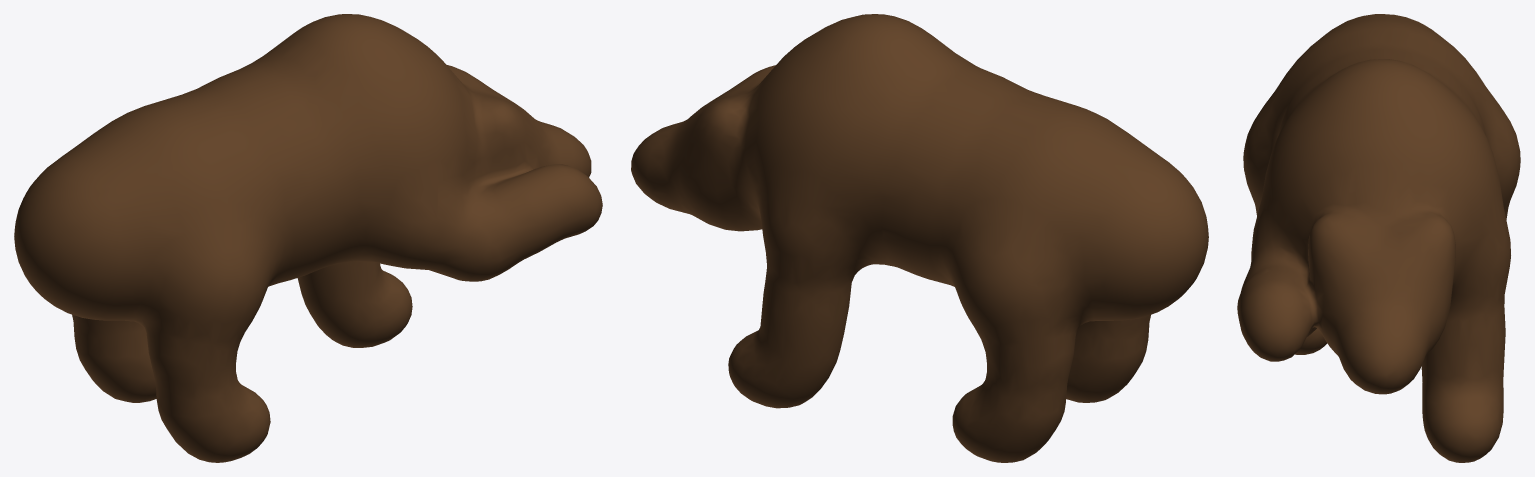
File: bear.glb
The picture shows the model from 3 angles, left to right: view 1: azimuth 30°, elevation 25°; view 2: azimuth 150°, elevation 25°; view 3: azimuth 270°, elevation 25°; orthographic projection.
Visible parts, largest first — view 1: Bear.001; view 2: Bear.001; view 3: Bear.001.
Part boxes in pixels (x1,y1,x2,y2): Bear.001: (14, 14, 602, 462); Bear.001: (631, 14, 1208, 462); Bear.001: (1237, 14, 1520, 462).
Size of the model in its own units: 3.02 by 1.88 by 1.33.
